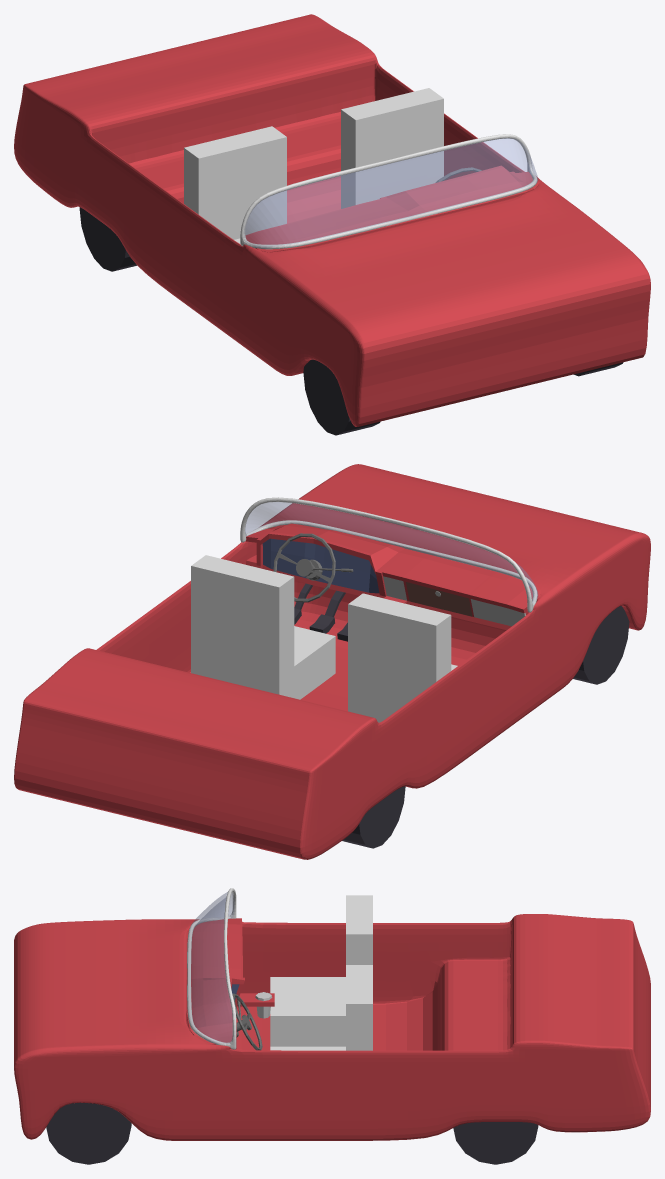
File: car01_mockup.fbx
The picture shows the model from 3 angles, top to bottom: view 1: azimuth 30°, elevation 25°; view 2: azimuth 150°, elevation 25°; view 3: azimuth 270°, elevation 25°; orthographic projection. The views are drawn at different scales.
Parts seen in each view (by area): view 1: car, frontWindow_glass, seat_driver, seat_passenger, dashboard mockup_v002, frontWindow_frame, wheel_front.R, wheel_back.R; view 2: car, seat_driver, dashboard mockup_v002, seat_passenger, frontWindow_glass, frontWindow_frame, wheel_front.R, wheel_back.R, drawer, steering wheel, pedal.002; view 3: car, seat_passenger, dashboard mockup_v002, frontWindow_glass, wheel_front.L, wheel_back.L, seat_driver, frontWindow_frame, steering wheel.
Part boxes in pixels (<box>): car: <box>14,14,650,426</box>; frontWindow_glass: <box>244,138,537,248</box>; seat_driver: <box>341,88,443,208</box>; seat_passenger: <box>184,126,286,243</box>; dashboard mockup_v002: <box>245,165,539,252</box>; frontWindow_frame: <box>240,134,537,249</box>; wheel_front.R: <box>303,359,380,435</box>; wheel_back.R: <box>79,207,136,271</box>; car: <box>14,464,650,859</box>; seat_driver: <box>191,555,335,699</box>; dashboard mockup_v002: <box>246,523,541,630</box>; seat_passenger: <box>348,593,457,722</box>; frontWindow_glass: <box>245,502,537,603</box>; frontWindow_frame: <box>240,497,537,612</box>; wheel_front.R: <box>573,606,629,684</box>; wheel_back.R: <box>342,786,405,848</box>; drawer: <box>406,582,472,616</box>; steering wheel: <box>273,533,335,602</box>; pedal.002: <box>309,590,345,633</box>; car: <box>14,914,650,1140</box>; seat_passenger: <box>270,895,372,1046</box>; dashboard mockup_v002: <box>186,918,274,1049</box>; frontWindow_glass: <box>188,892,234,1043</box>; wheel_front.L: <box>46,1102,131,1164</box>; wheel_back.L: <box>453,1122,538,1164</box>; seat_driver: <box>270,965,372,1050</box>; frontWindow_frame: <box>187,888,236,1049</box>; steering wheel: <box>232,993,262,1050</box>.
Size of the model in its own units: 200 by 120 by 416.
